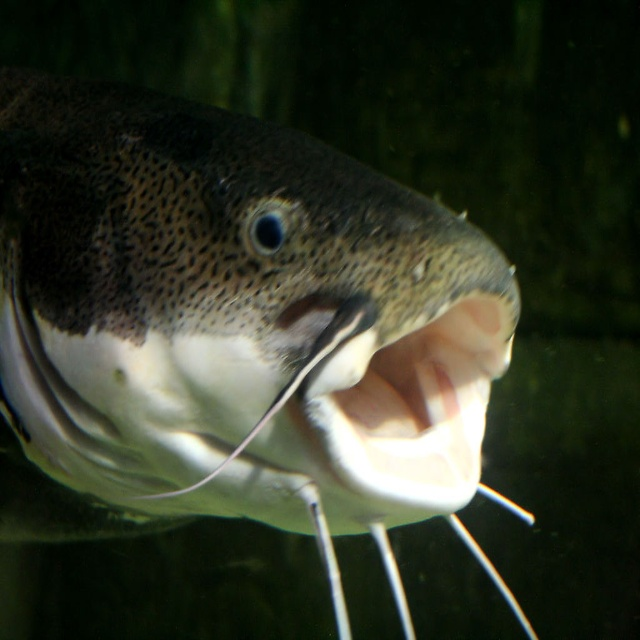Fish: (7, 104, 543, 558)
